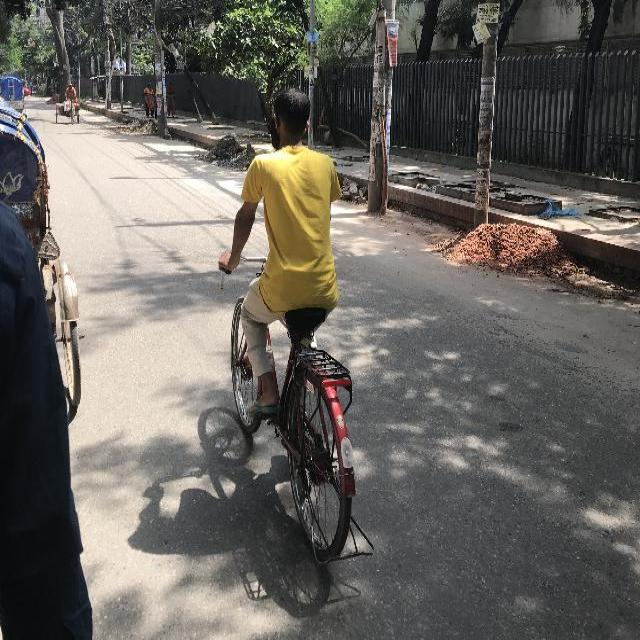13: (0, 106, 82, 406), (1, 77, 25, 117)
Motorcycle: (214, 243, 378, 566)
